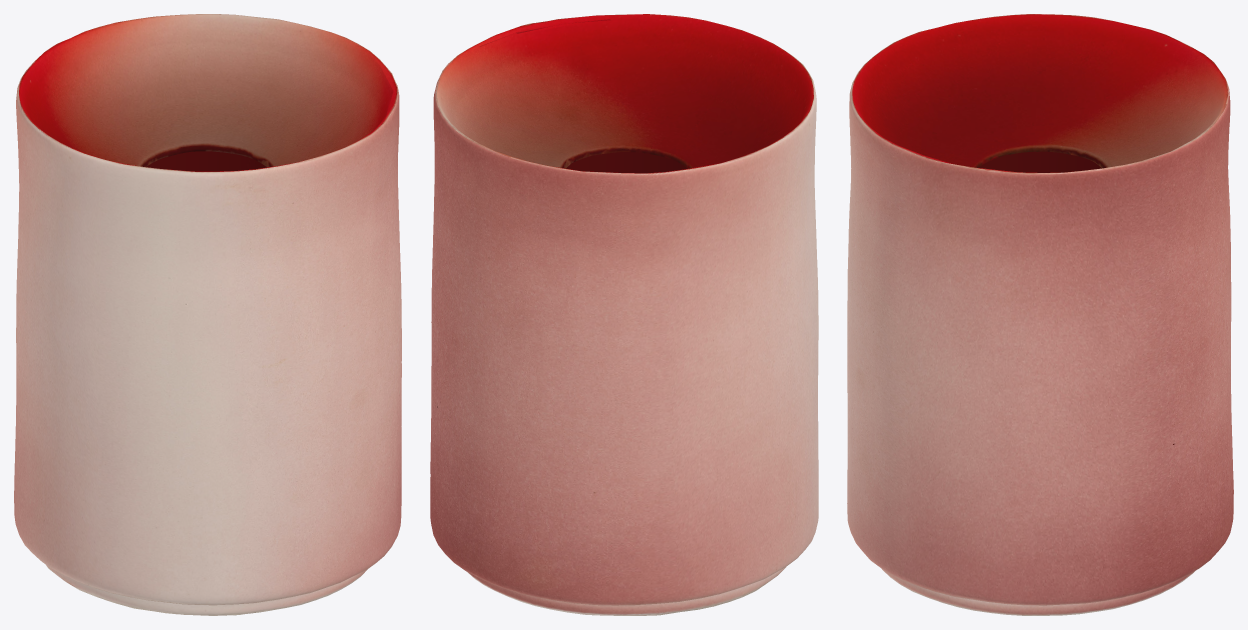
Rendered from KuengCaputo_AsIf_2100_2.glb.
3 renders of one model, left to right at view 1: azimuth 30°, elevation 25°; view 2: azimuth 150°, elevation 25°; view 3: azimuth 270°, elevation 25°, orthographic.
Visible parts, largest first — view 1: Retopo_as_if_5.001; view 2: Retopo_as_if_5.001; view 3: Retopo_as_if_5.001.
Boxes of the visible parts, x1,y1,x2,y2 form: Retopo_as_if_5.001: (14, 14, 401, 615); Retopo_as_if_5.001: (430, 14, 818, 615); Retopo_as_if_5.001: (847, 14, 1233, 615).
Size of the model in its own units: 0.1774 by 0.2304 by 0.1777.
1 material, 1 textured.
